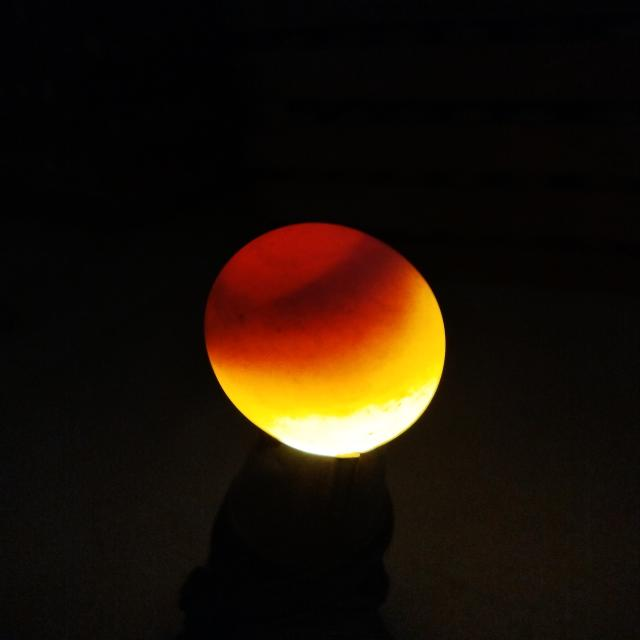Area Infectada: (210, 236, 389, 329)
